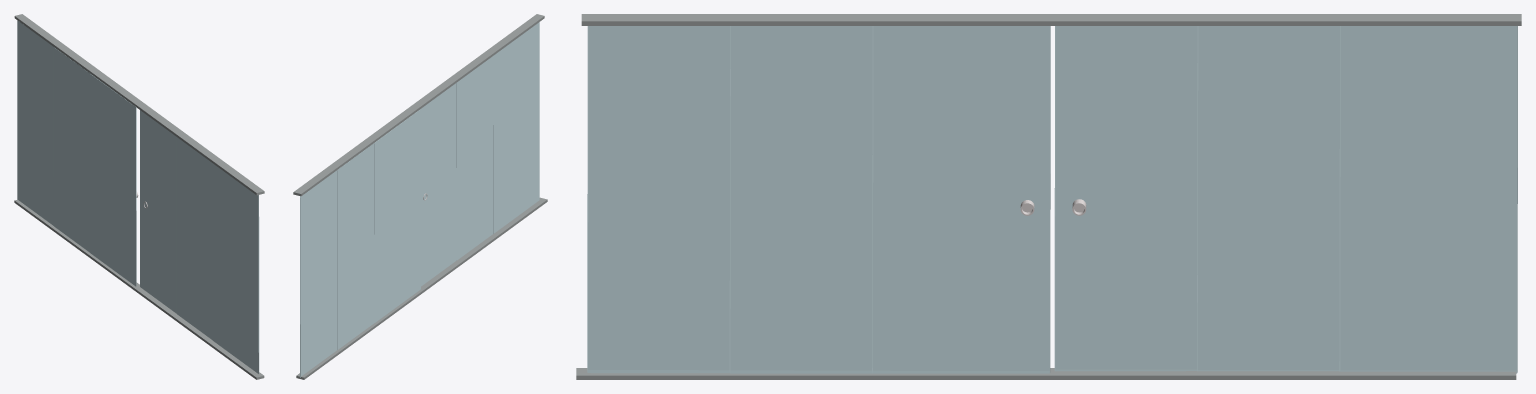
The model's file is Cynslidingdoors.glb.
3 views of the same model, side by side, from view 1: azimuth 30°, elevation 25°; view 2: azimuth 150°, elevation 25°; view 3: azimuth 270°, elevation 25° (orthographic). The views are drawn at different scales.
Parts seen in each view (by area): view 1: doorfright, doorfleft, toprail, Cube; view 2: doorfright, doorfleft, toprail, Cube; view 3: doorfleft, doorfright, toprail, Cube.
Part boxes in pixels (<box>): doorfright: <box>17,20,136,286</box>; doorfleft: <box>140,110,259,373</box>; toprail: <box>14,14,264,195</box>; Cube: <box>14,199,264,379</box>; doorfright: <box>300,109,420,377</box>; doorfleft: <box>420,22,539,286</box>; toprail: <box>293,14,544,196</box>; Cube: <box>296,197,547,379</box>; doorfleft: <box>587,26,1050,373</box>; doorfright: <box>1054,26,1517,373</box>; toprail: <box>581,14,1521,25</box>; Cube: <box>576,368,1516,379</box>.
Bounding box in the file's own units: 0.1078 × 2.01 × 4.78.
